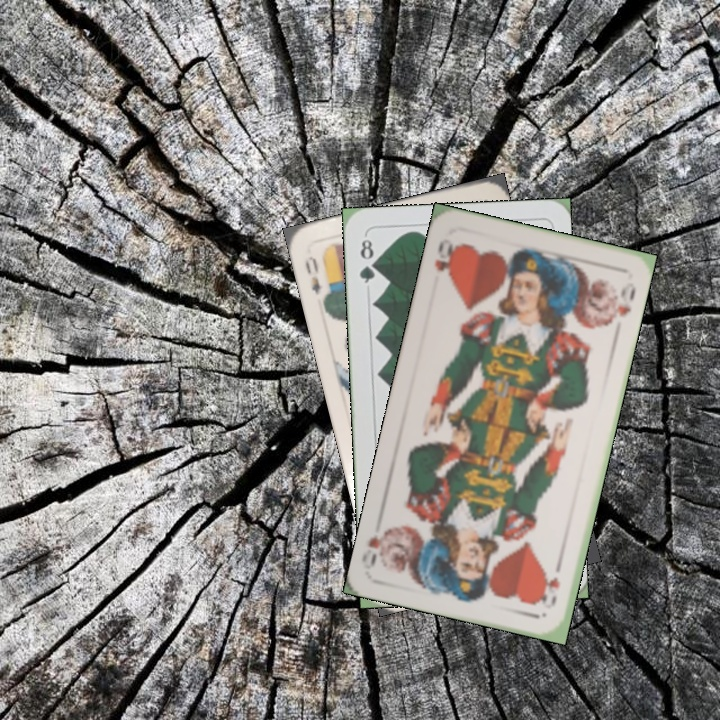EO: (301, 252, 334, 305)
G8: (355, 235, 379, 286)
HO: (539, 556, 565, 611), (430, 235, 460, 279)
